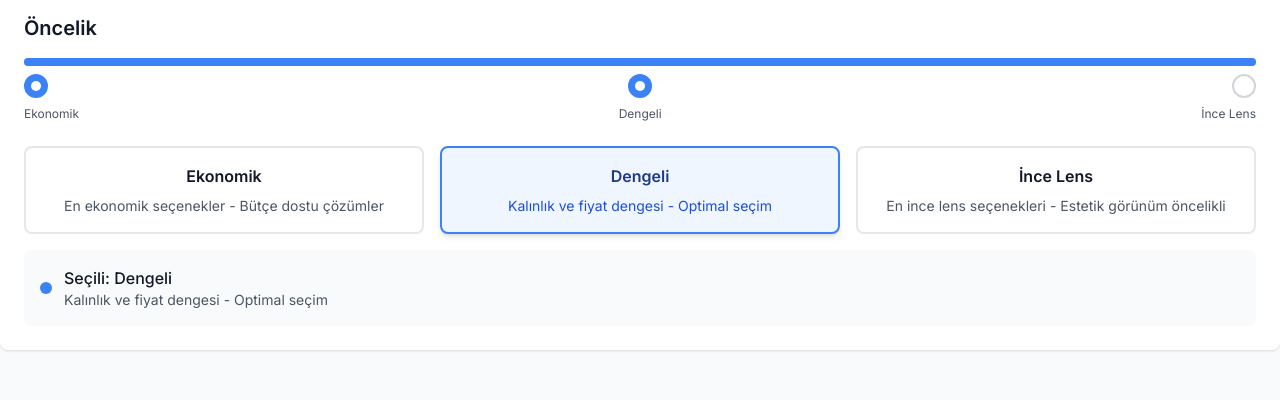
Test: PrioritySlider › Error Handling › displays error message when error prop is provided and component is touched
This screenshot has width=1280, height=400.
Component needs to be touched to show error
Click the radio button labelled "ince lens" at (1056, 176), box [856,146,1256,234]
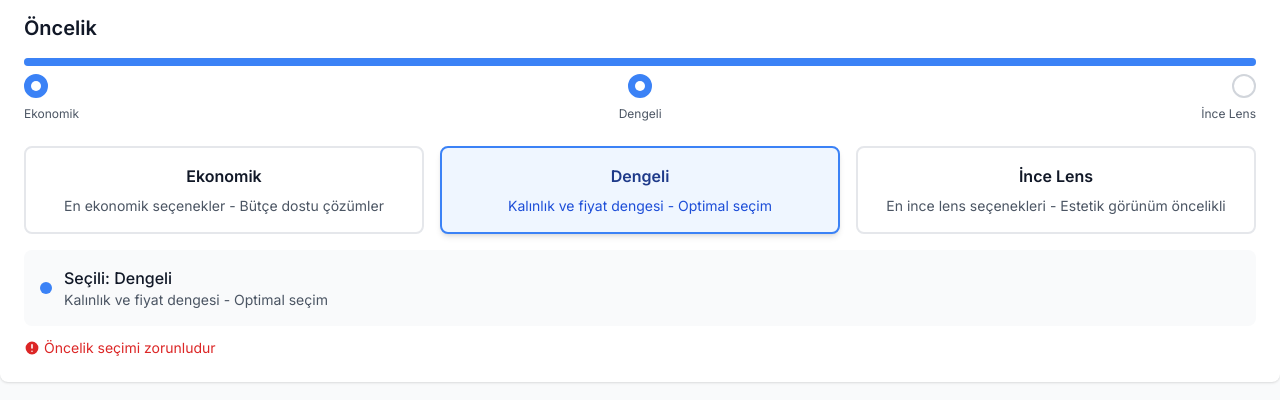
Expected: the message "Öncelik seçimi zorunludur" is shown, [24,339,216,356]
